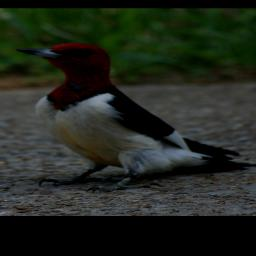Woodpecker: (8, 42, 256, 192)
